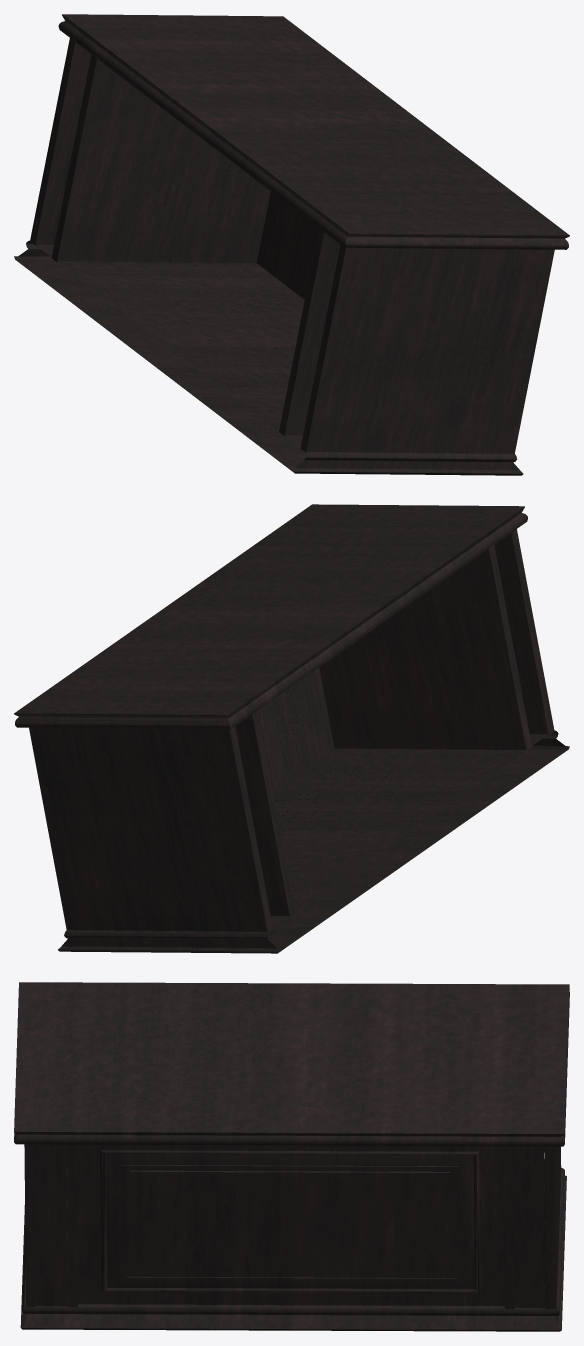
The model's file is desk.glb.
3 renders of one model, top to bottom at view 1: azimuth 30°, elevation 25°; view 2: azimuth 150°, elevation 25°; view 3: azimuth 270°, elevation 25°, orthographic. The views are drawn at different scales.
Parts seen in each view (by area): view 1: Object_3; view 2: Object_3; view 3: Object_3.
Boxes of the visible parts, x1,y1,x2,y2 form: Object_3: [14, 14, 569, 475]; Object_3: [14, 504, 569, 953]; Object_3: [14, 982, 569, 1331].
Bounding box in the file's own units: 0.757 × 0.7543 × 1.41.
Materials: 1 (1 with a texture image).
